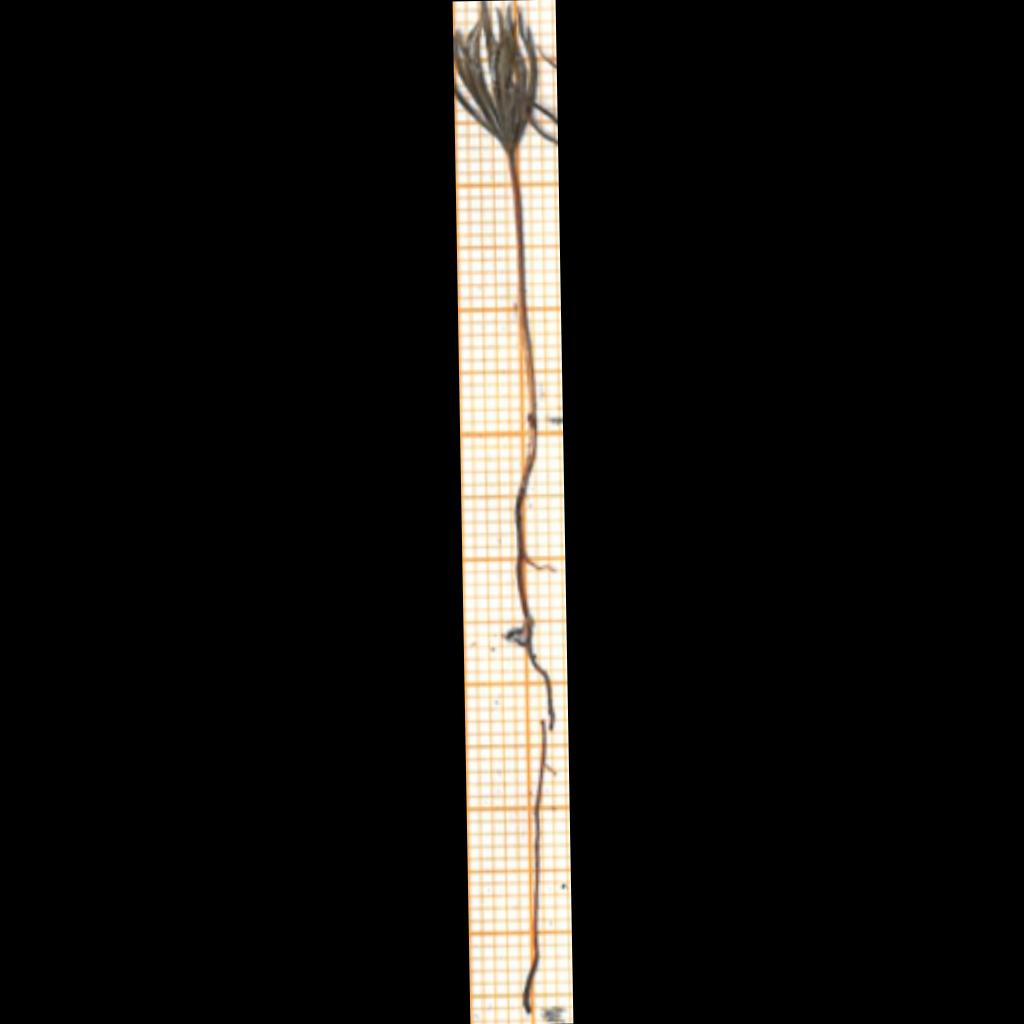flowerPinus: (453, 1, 537, 153)
rootPinus: (508, 444, 554, 730)
stemPinus: (508, 153, 536, 430)
